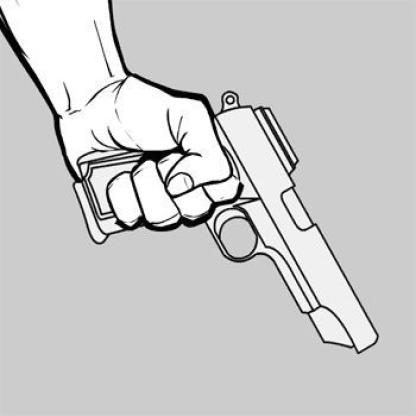handgun: (79, 89, 382, 350)
